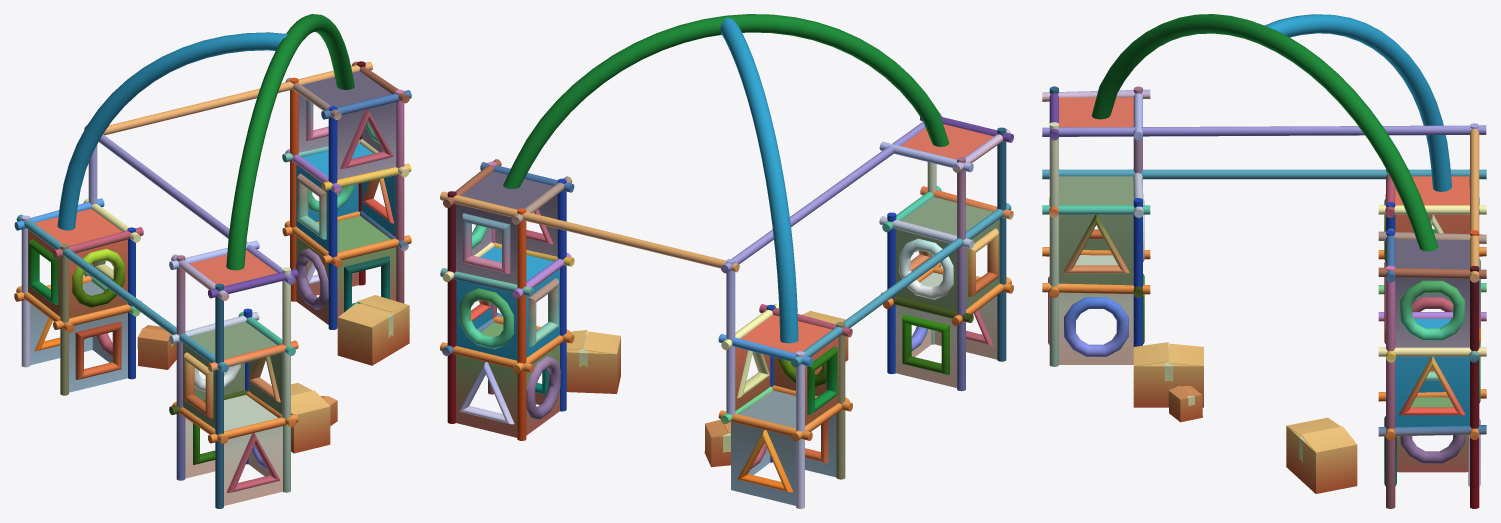
File: hub.fbx
3 renders of one model, left to right at view 1: azimuth 30°, elevation 25°; view 2: azimuth 150°, elevation 25°; view 3: azimuth 270°, elevation 25°, orthographic. The views are drawn at different scales.
Parts seen in each view (by area): view 1: Plane.001, Cube.002, Cube, Cube.003; view 2: Plane.001, Cube.002, Cube.003; view 3: Plane.001, Cube.002, Cube, Cube.001.
Boxes of the visible parts, box(x1,y1,x2,y2) form: Plane.001: box(14, 14, 411, 508); Cube.002: box(337, 295, 409, 365); Cube: box(291, 383, 330, 453); Cube.003: box(137, 325, 176, 369); Plane.001: box(440, 14, 1013, 508); Cube.002: box(566, 330, 620, 393); Cube.003: box(704, 419, 730, 467); Plane.001: box(1042, 14, 1486, 508); Cube.002: box(1286, 417, 1357, 493); Cube: box(1133, 342, 1203, 407); Cube.001: box(1168, 385, 1202, 422).
Size of the model in its own units: 423 by 411 by 423.
